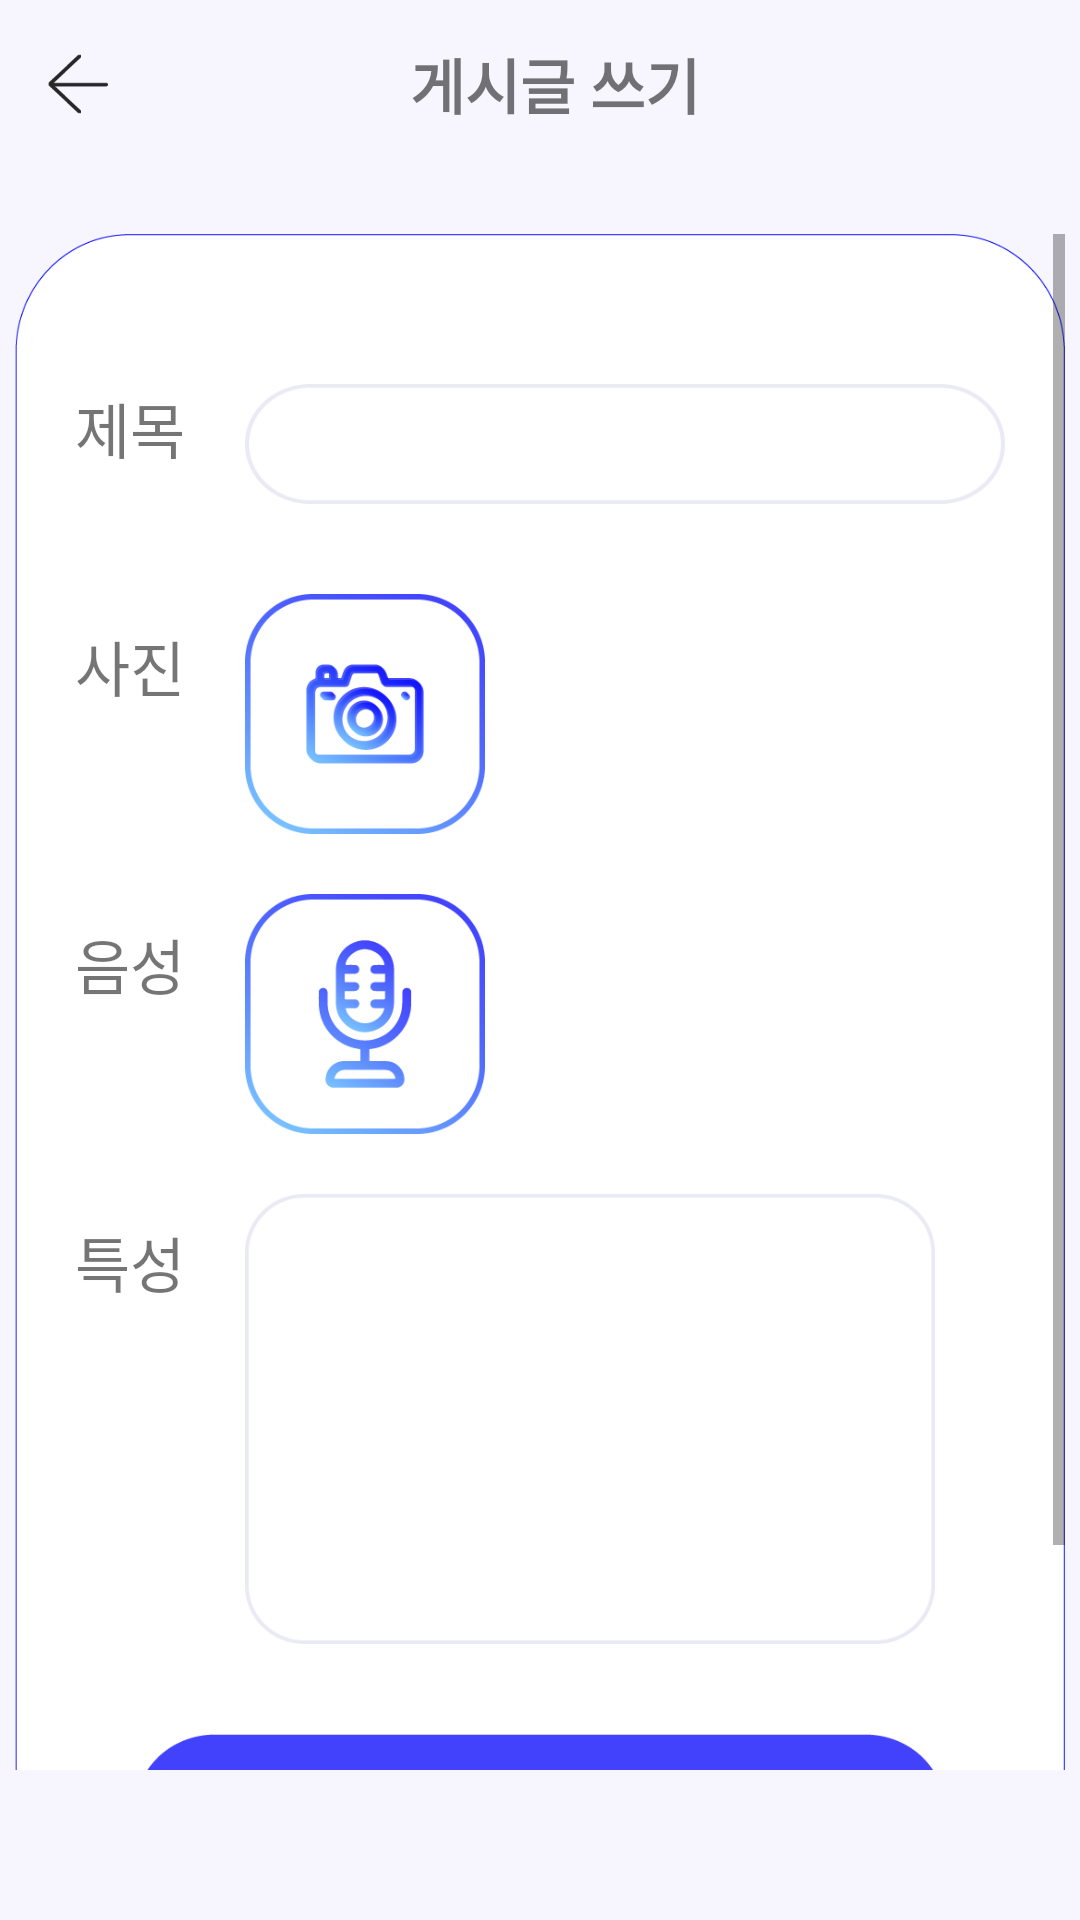

Icons on this 1080px×1920px Android screen, each with its box as (x1, y1, x2, y2):
backbtn: (48, 54, 108, 114)
